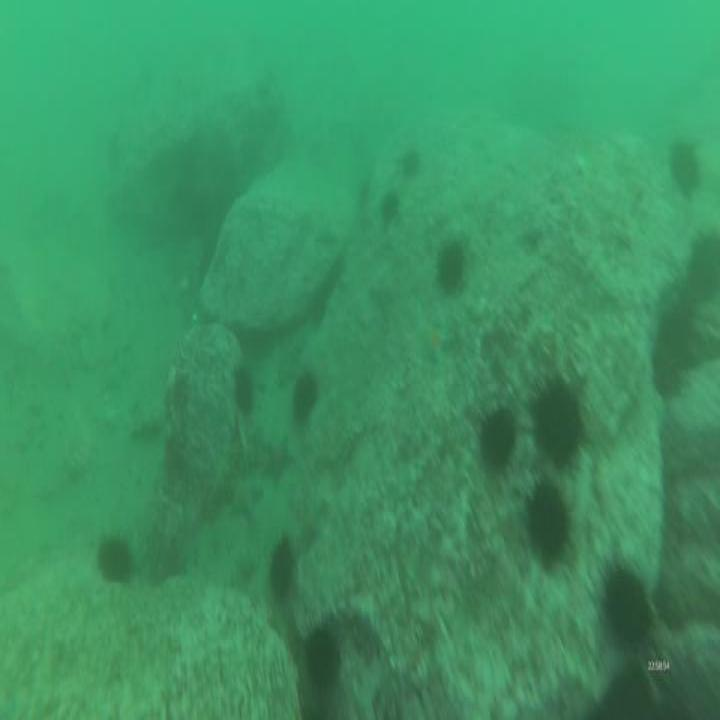echinus: (603, 564, 646, 640), (534, 391, 580, 459), (530, 480, 566, 555), (690, 229, 720, 292), (305, 622, 335, 684), (479, 411, 511, 469), (668, 137, 698, 185), (436, 238, 465, 286), (99, 540, 129, 580), (271, 546, 290, 594), (293, 373, 316, 412), (235, 368, 254, 412), (383, 192, 398, 213), (406, 151, 418, 174)
starfish: (258, 432, 293, 480), (226, 473, 261, 517), (374, 265, 406, 311), (419, 320, 449, 359)
